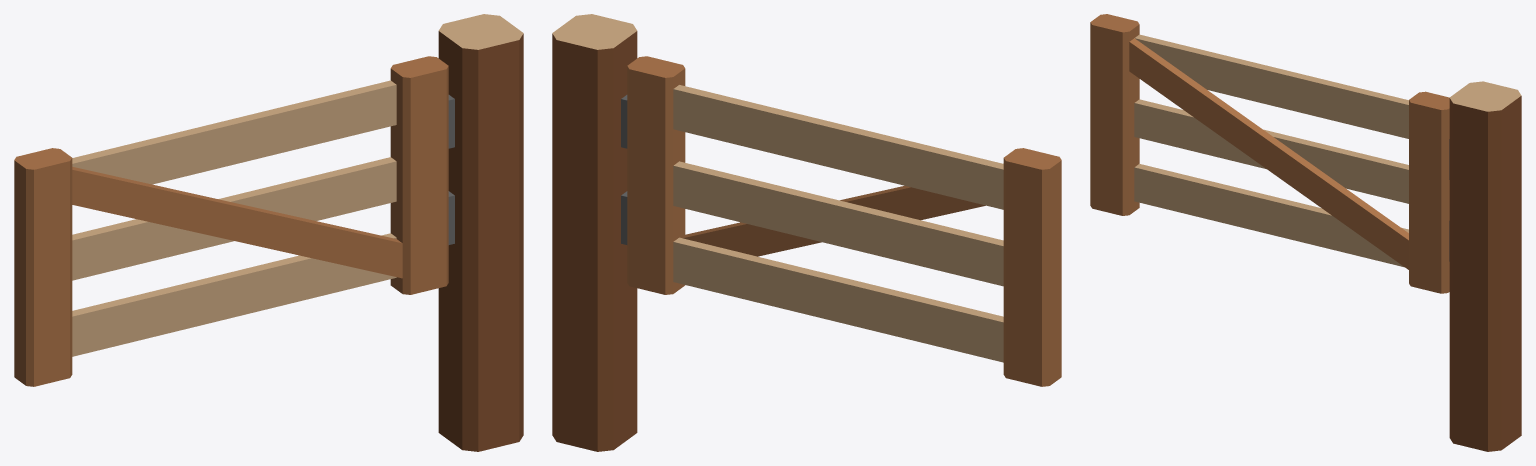
The model's file is Prop_Decorative_Fence_Gate_2.obj.
3 renders of one model, left to right at view 1: azimuth 30°, elevation 25°; view 2: azimuth 150°, elevation 25°; view 3: azimuth 330°, elevation 25°, orthographic. The views are drawn at different scales.
Parts seen in each view (by area): view 1: Fence_Gate_Rail, Fence_Gate_Post_Side, Fence_Gate_Side, Fence_Gate_Crossrail, Fence_Gate_Post_Top, Fence_Gate_Hinge; view 2: Fence_Gate_Rail, Fence_Gate_Post_Side, Fence_Gate_Side, Fence_Gate_Crossrail, Fence_Gate_Post_Top, Fence_Gate_Hinge; view 3: Fence_Gate_Rail, Fence_Gate_Post_Side, Fence_Gate_Side, Fence_Gate_Crossrail, Fence_Gate_Post_Top.
Boxes of the visible parts, left/top/right/bottom form: Fence_Gate_Rail: left=72, top=80, right=396, bottom=356; Fence_Gate_Post_Side: left=438, top=31, right=523, bottom=451; Fence_Gate_Side: left=14, top=56, right=448, bottom=386; Fence_Gate_Crossrail: left=72, top=167, right=402, bottom=278; Fence_Gate_Post_Top: left=438, top=14, right=523, bottom=49; Fence_Gate_Hinge: left=448, top=95, right=454, bottom=244; Fence_Gate_Rail: left=673, top=85, right=1003, bottom=362; Fence_Gate_Post_Side: left=552, top=31, right=637, bottom=451; Fence_Gate_Side: left=627, top=56, right=1061, bottom=386; Fence_Gate_Crossrail: left=681, top=185, right=985, bottom=256; Fence_Gate_Post_Top: left=552, top=14, right=637, bottom=49; Fence_Gate_Hinge: left=621, top=95, right=627, bottom=244; Fence_Gate_Rail: left=1134, top=34, right=1408, bottom=267; Fence_Gate_Post_Side: left=1449, top=96, right=1521, bottom=451; Fence_Gate_Side: left=1090, top=14, right=1449, bottom=293; Fence_Gate_Crossrail: left=1129, top=38, right=1408, bottom=269; Fence_Gate_Post_Top: left=1449, top=81, right=1521, bottom=111.
Size of the model in its own units: 1.6 by 1.25 by 0.2.
